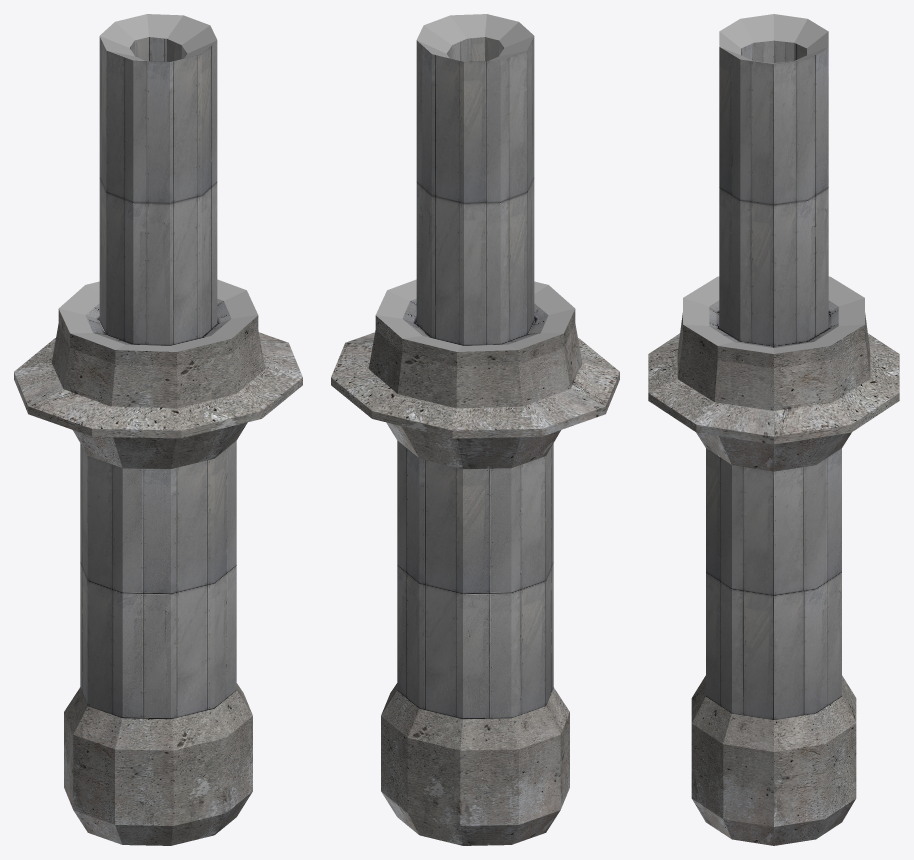
Rendered from TowerLarge.fbx.
The picture shows the model from 3 angles, left to right: view 1: azimuth 30°, elevation 25°; view 2: azimuth 150°, elevation 25°; view 3: azimuth 270°, elevation 25°; orthographic projection.
Visible parts, largest first — view 1: pCylinder15; view 2: pCylinder15; view 3: pCylinder15.
Boxes of the visible parts, <box> form: pCylinder15: <box>14,14,302,845</box>; pCylinder15: <box>331,14,619,845</box>; pCylinder15: <box>648,14,899,845</box>.
Bounding box in the file's own units: 221 × 630 × 186.
Materials: 3 (2 with a texture image).
